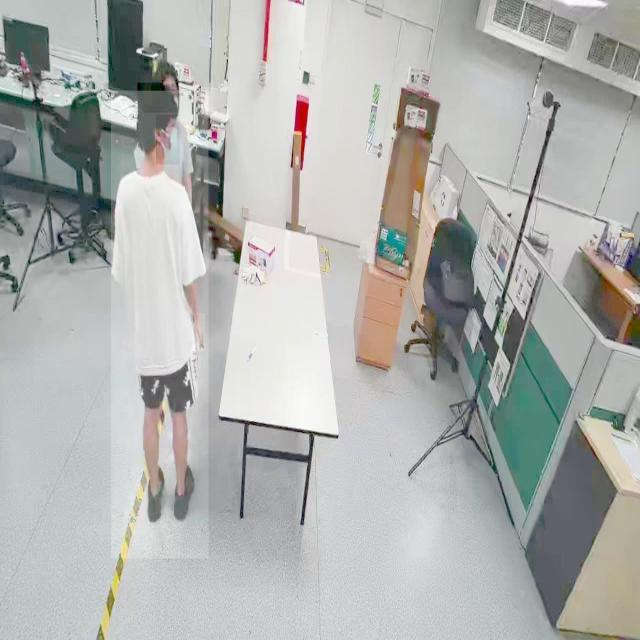face_mask: (156, 114, 180, 164)
hand_noglove: (192, 313, 206, 352)
head_nohelmet: (138, 82, 178, 114), (152, 58, 178, 81)
person: (111, 91, 209, 559)
shoes: (170, 456, 196, 530), (142, 462, 166, 528)
